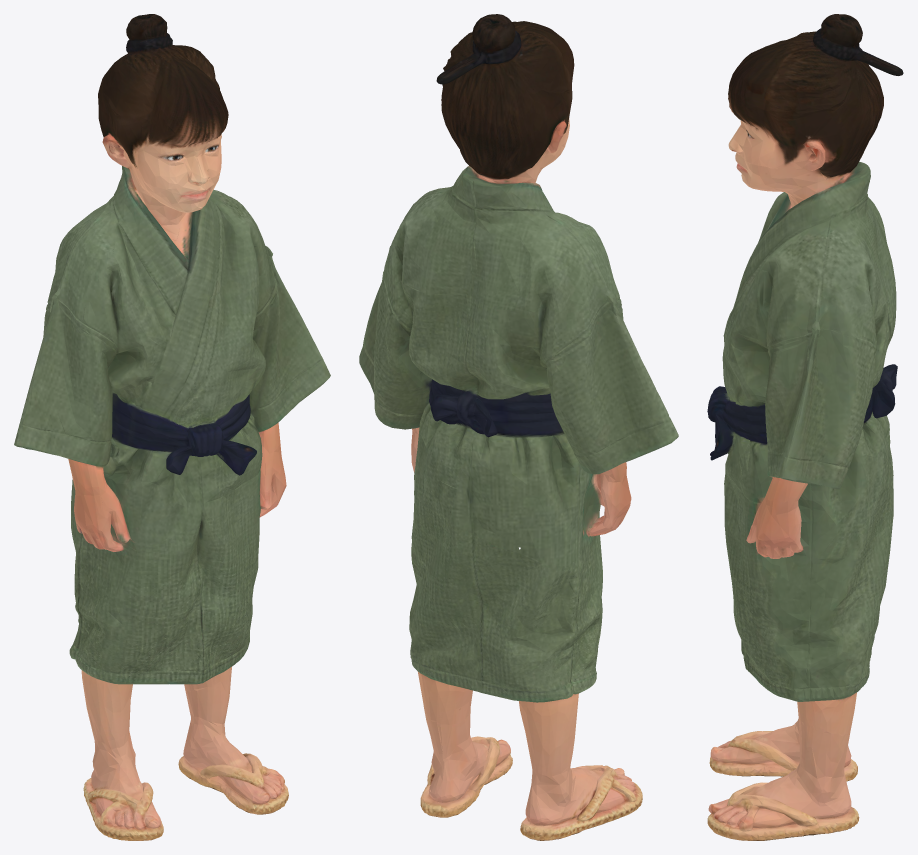
File: kimono-boy.glb
3 views of the same model, side by side, from view 1: azimuth 30°, elevation 25°; view 2: azimuth 150°, elevation 25°; view 3: azimuth 270°, elevation 25° (orthographic). The views are drawn at different scales.
Bounding box in the file's own units: 0.5599 × 1.33 × 0.3026.
1 material, 1 textured.
